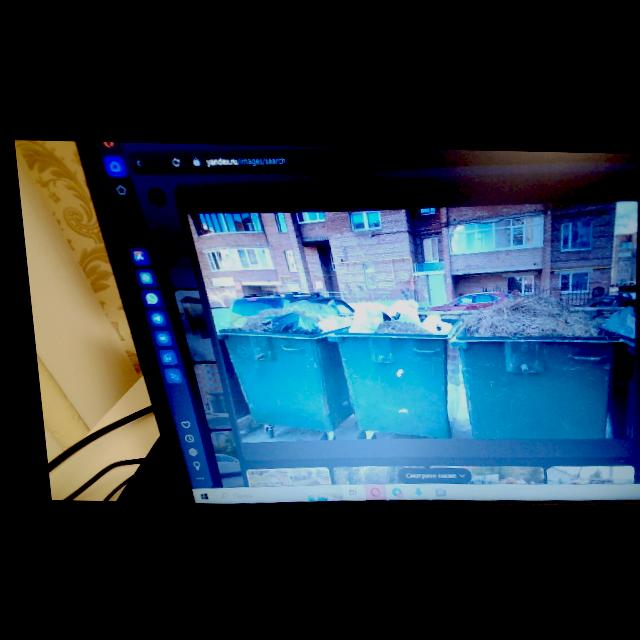Trash_Can_Full: (439, 294, 624, 437), (210, 297, 353, 431), (319, 297, 454, 437)
